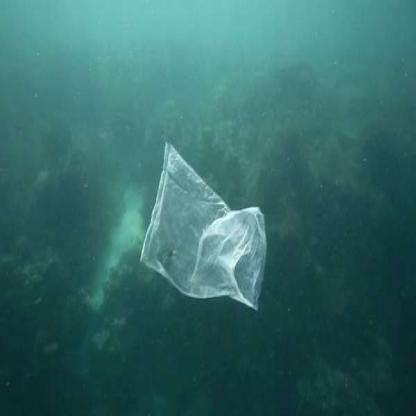Rác: (138, 126, 284, 334)
